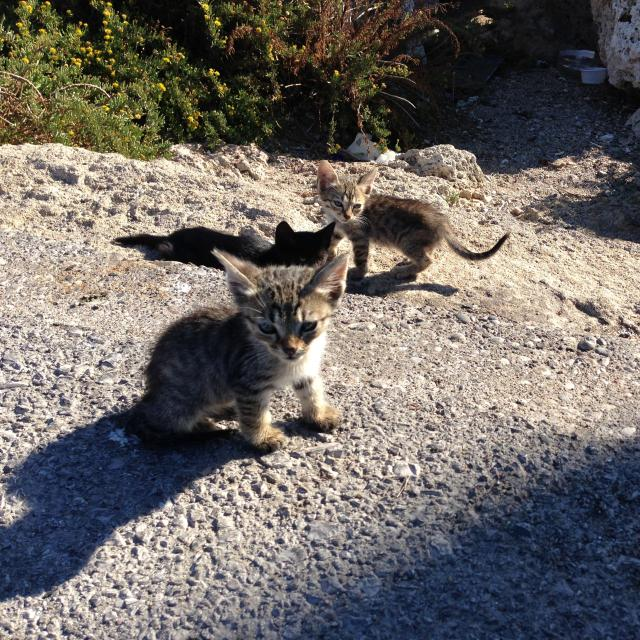cat: (124, 250, 348, 451), (318, 161, 509, 280), (115, 221, 334, 269)
